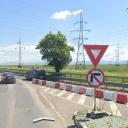NoVirarDireita: (84, 68, 109, 88)
preferencia: (81, 43, 111, 69)
